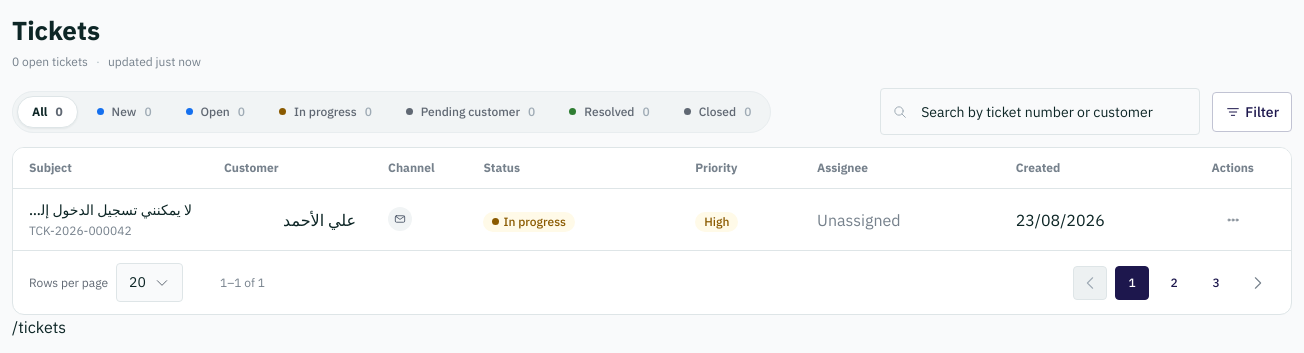
Test: FE-026-09 — the row navigates, AND it has a menu again › renders the actions column and a four-item menu
Expected: the text "TCK-2026-000042" is shown, [29, 223, 132, 240]
Expected: the column heading "Actions" is shown, [1174, 148, 1291, 188]
Click the button named "Ticket actions" at (1233, 220), box [1218, 205, 1248, 235]
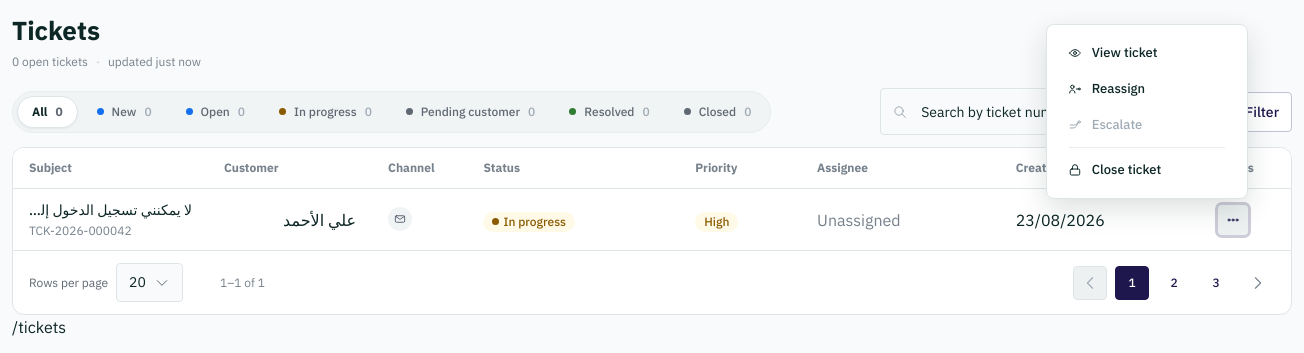
Expected: the menu items read "View ticket", "Reassign", "Escalate", "Close ticket", in this order, [1057, 35, 1237, 71]; [1057, 71, 1237, 107]; [1057, 107, 1237, 143]; [1057, 152, 1237, 188]
